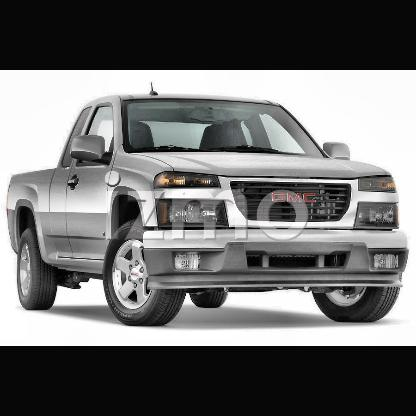GMC Canyon Extended Cab 2012: (7, 80, 410, 326)
